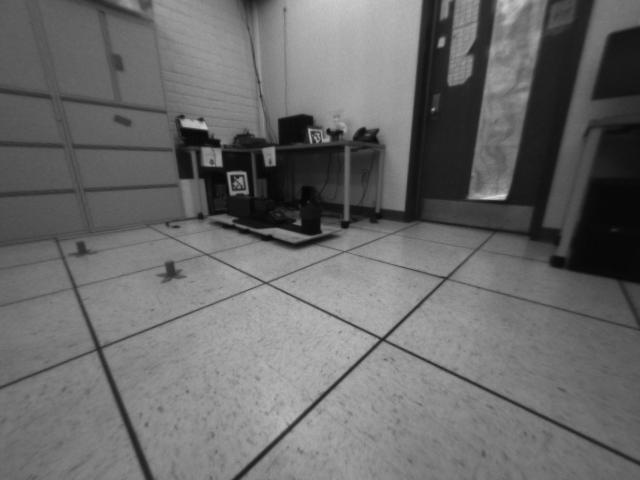X: (154, 259, 187, 283), (67, 239, 97, 257)
